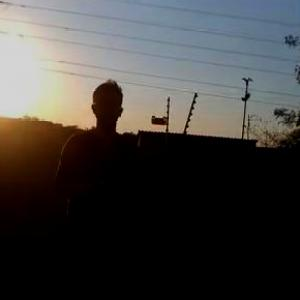follow: (44, 66, 136, 299)
